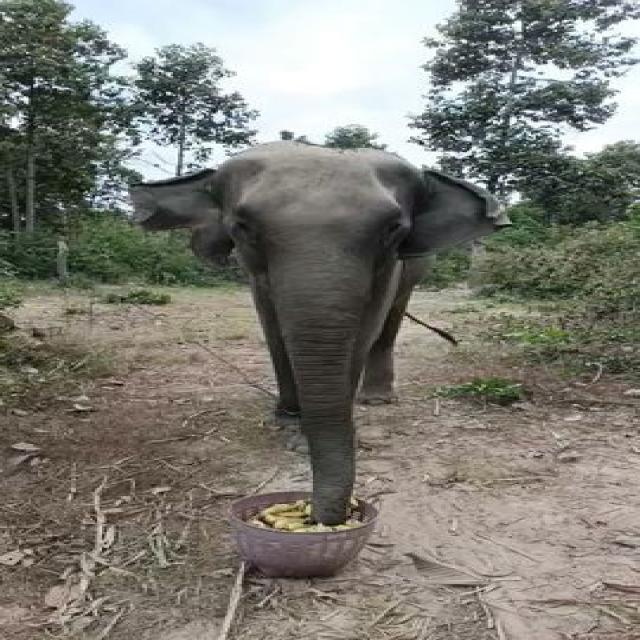Elephant: (55, 120, 531, 548)
